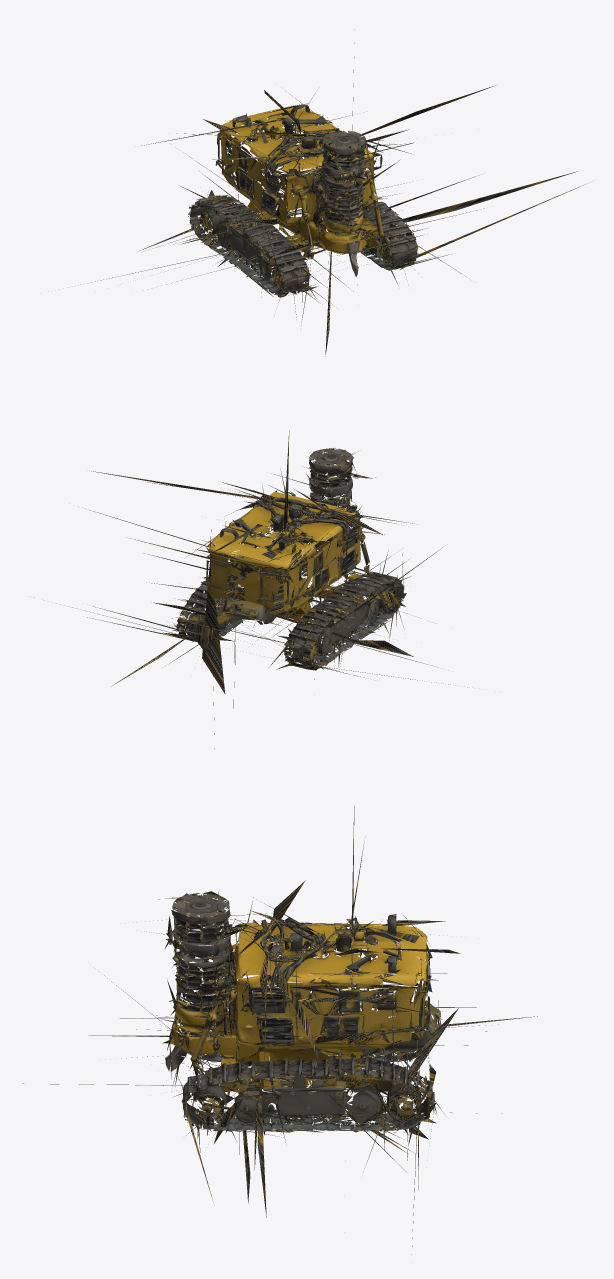
Rendered from crawler-v1.glb.
The picture shows the model from 3 angles, top to bottom: view 1: azimuth 30°, elevation 25°; view 2: azimuth 150°, elevation 25°; view 3: azimuth 270°, elevation 25°; orthographic projection. The views are drawn at different scales.
Parts seen in each view (by area): view 1: tripo_node_f7d39b47-4151-4db3-8219-232d08e8216c; view 2: tripo_node_f7d39b47-4151-4db3-8219-232d08e8216c; view 3: tripo_node_f7d39b47-4151-4db3-8219-232d08e8216c.
Part boxes in pixels (x1=…): tripo_node_f7d39b47-4151-4db3-8219-232d08e8216c: x1=80, y1=29, x2=589, y2=356; tripo_node_f7d39b47-4151-4db3-8219-232d08e8216c: x1=72, y1=430, x2=467, y2=748; tripo_node_f7d39b47-4151-4db3-8219-232d08e8216c: x1=22, y1=806, x2=537, y2=1254.
Size of the model in its own units: 3.03 by 1.79 by 2.11.
1 material, 1 textured.
